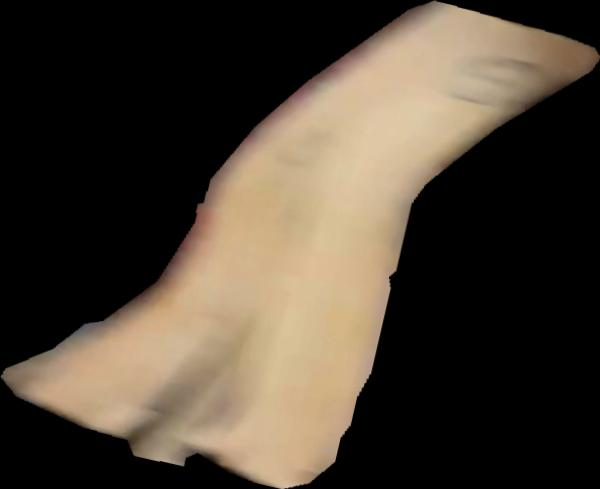backward: (1, 1, 600, 489)
